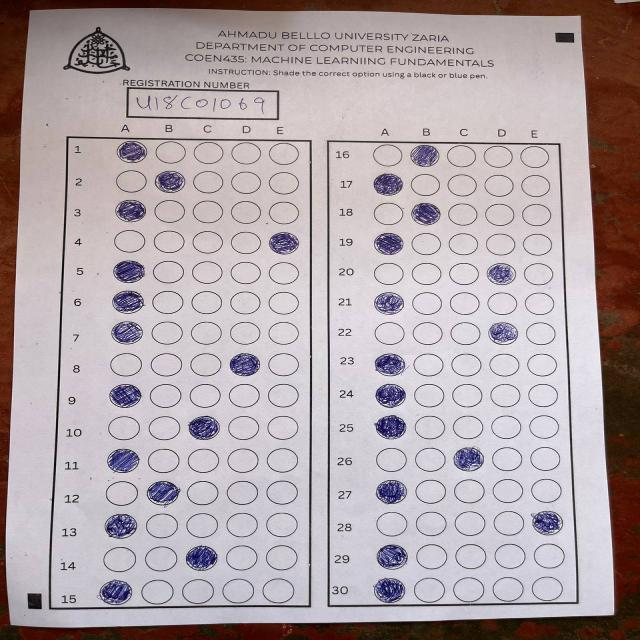bubble: (97, 579, 133, 605), (146, 481, 180, 507), (104, 513, 137, 539), (374, 576, 406, 602), (111, 290, 145, 314), (531, 510, 563, 535), (107, 448, 139, 473), (109, 384, 142, 408), (376, 545, 408, 569), (374, 415, 406, 439), (186, 546, 218, 570), (376, 480, 407, 504), (375, 383, 406, 407), (188, 416, 219, 440), (374, 353, 406, 376), (268, 232, 300, 255), (113, 260, 146, 282), (111, 322, 144, 344), (454, 447, 484, 471), (229, 353, 260, 376), (116, 141, 148, 163), (373, 173, 403, 196), (155, 170, 185, 193), (115, 200, 146, 222), (410, 144, 439, 167), (374, 292, 404, 314), (411, 203, 441, 225), (374, 233, 404, 255), (487, 263, 516, 285), (489, 322, 518, 344)
